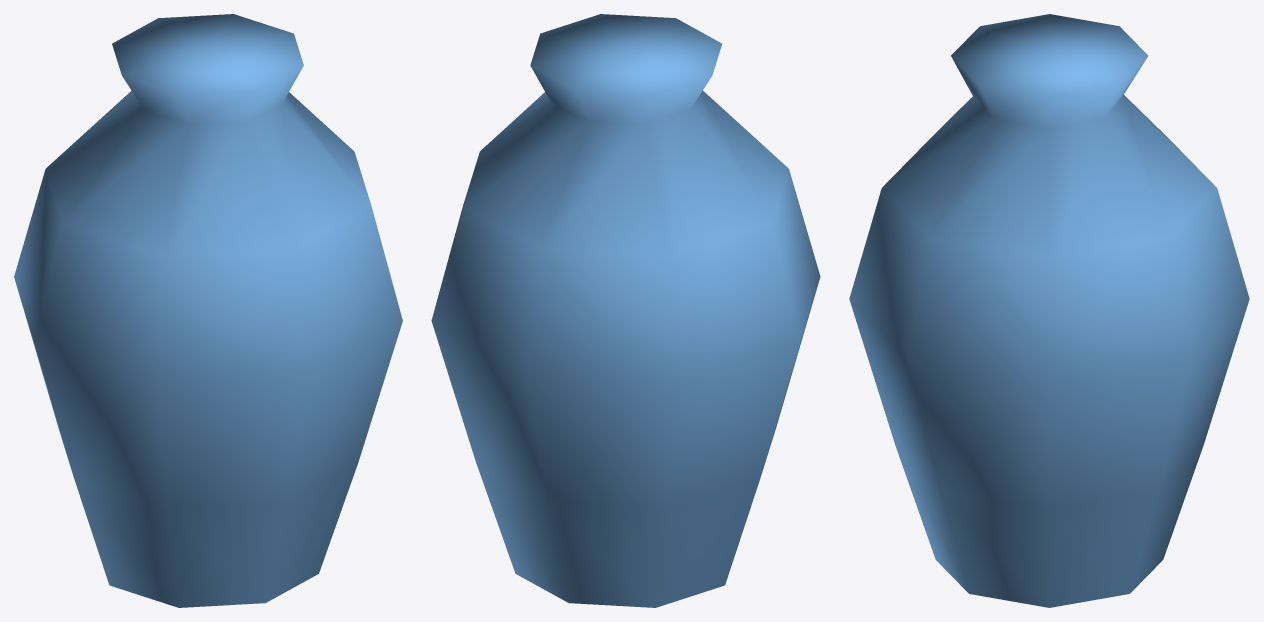
File: JZT_guanzi2.FBX
The picture shows the model from 3 angles, left to right: view 1: azimuth 30°, elevation 25°; view 2: azimuth 150°, elevation 25°; view 3: azimuth 270°, elevation 25°; orthographic projection.
Visible parts, largest first — view 1: JZT_guanzi2; view 2: JZT_guanzi2; view 3: JZT_guanzi2.
Part boxes in pixels (<box>): JZT_guanzi2: <box>14,14,402,607</box>; JZT_guanzi2: <box>431,14,820,607</box>; JZT_guanzi2: <box>849,14,1249,607</box>.
Bounding box in the file's own units: 55.32 × 76.81 × 55.32.
